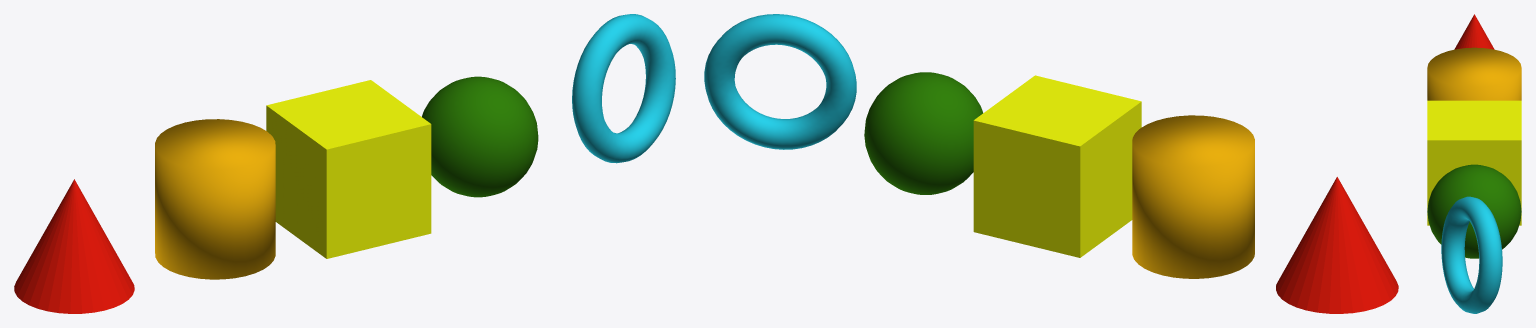
Rendered from asset.glb.
3 renders of one model, left to right at view 1: azimuth 30°, elevation 25°; view 2: azimuth 150°, elevation 25°; view 3: azimuth 270°, elevation 25°, orthographic. The views are drawn at different scales.
Visible parts, largest first — view 1: Cube, Cylinder, Sphere, Torus, Cone; view 2: Cube, Cylinder, Sphere, Torus, Cone; view 3: Cube, Torus, Cylinder, Sphere, Cone.
Part boxes in pixels (box(x1,y1,x2,y2)): Cube: box(266, 80, 431, 258); Cylinder: box(155, 119, 275, 279); Sphere: box(422, 76, 538, 197); Torus: box(572, 14, 675, 163); Cone: box(14, 179, 134, 313); Cube: box(973, 75, 1141, 257); Cylinder: box(1132, 115, 1254, 278); Sphere: box(864, 72, 982, 194); Torus: box(704, 14, 856, 149); Cone: box(1276, 177, 1398, 313); Cube: box(1427, 100, 1521, 225); Torus: box(1441, 196, 1502, 313); Cylinder: box(1427, 47, 1521, 100); Sphere: box(1427, 164, 1521, 258); Cone: box(1454, 14, 1494, 49).
Size of the model in its own units: 12.64 by 2.52 by 2.
